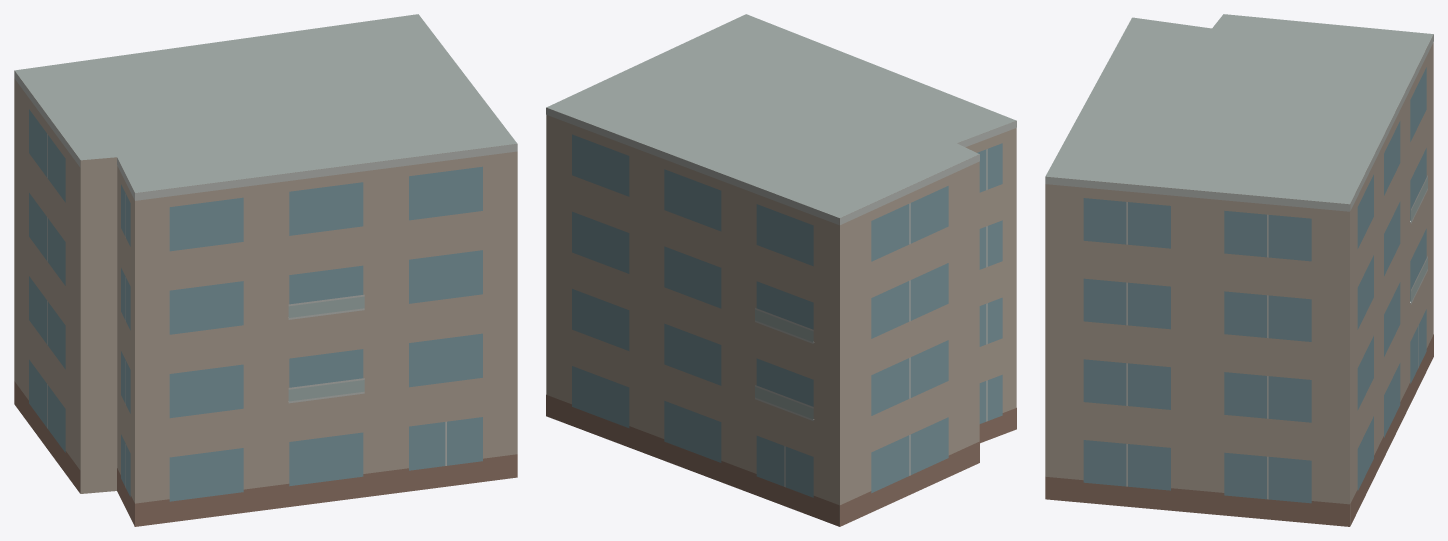
Rendered from survey-upis-32879690.glb.
The picture shows the model from 3 angles, left to right: view 1: azimuth 30°, elevation 25°; view 2: azimuth 150°, elevation 25°; view 3: azimuth 270°, elevation 25°; orthographic projection. The views are drawn at different scales.
Parts seen in each view (by area): view 1: survey-upis-32879690.tmp; view 2: survey-upis-32879690.tmp; view 3: survey-upis-32879690.tmp.
Boxes of the visible parts, x1,y1,x2,y2 form: survey-upis-32879690.tmp: [14, 14, 517, 526]; survey-upis-32879690.tmp: [546, 14, 1016, 526]; survey-upis-32879690.tmp: [1045, 14, 1433, 526].
Size of the model in its own units: 13.29 by 10.5 by 11.47.
